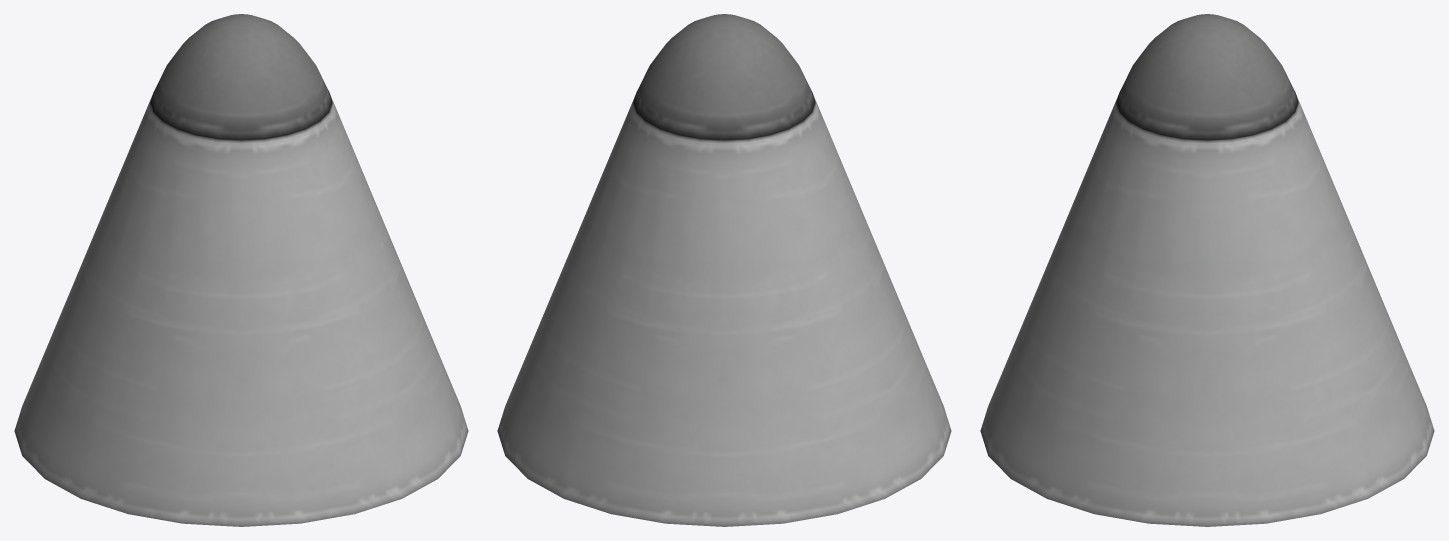
File: black_arrow_nose_cone_s0_1.obj
The picture shows the model from 3 angles, left to right: view 1: azimuth 30°, elevation 25°; view 2: azimuth 150°, elevation 25°; view 3: azimuth 270°, elevation 25°; orthographic projection.
Visible parts, largest first — view 1: mesh1; view 2: mesh1; view 3: mesh1.
Boxes of the visible parts, left/top/right/bottom form: mesh1: left=14, top=14, right=468, bottom=526; mesh1: left=497, top=14, right=951, bottom=526; mesh1: left=980, top=14, right=1434, bottom=526.
Size of the model in its own units: 0.625 by 0.625 by 0.625.
1 material, 1 textured.
